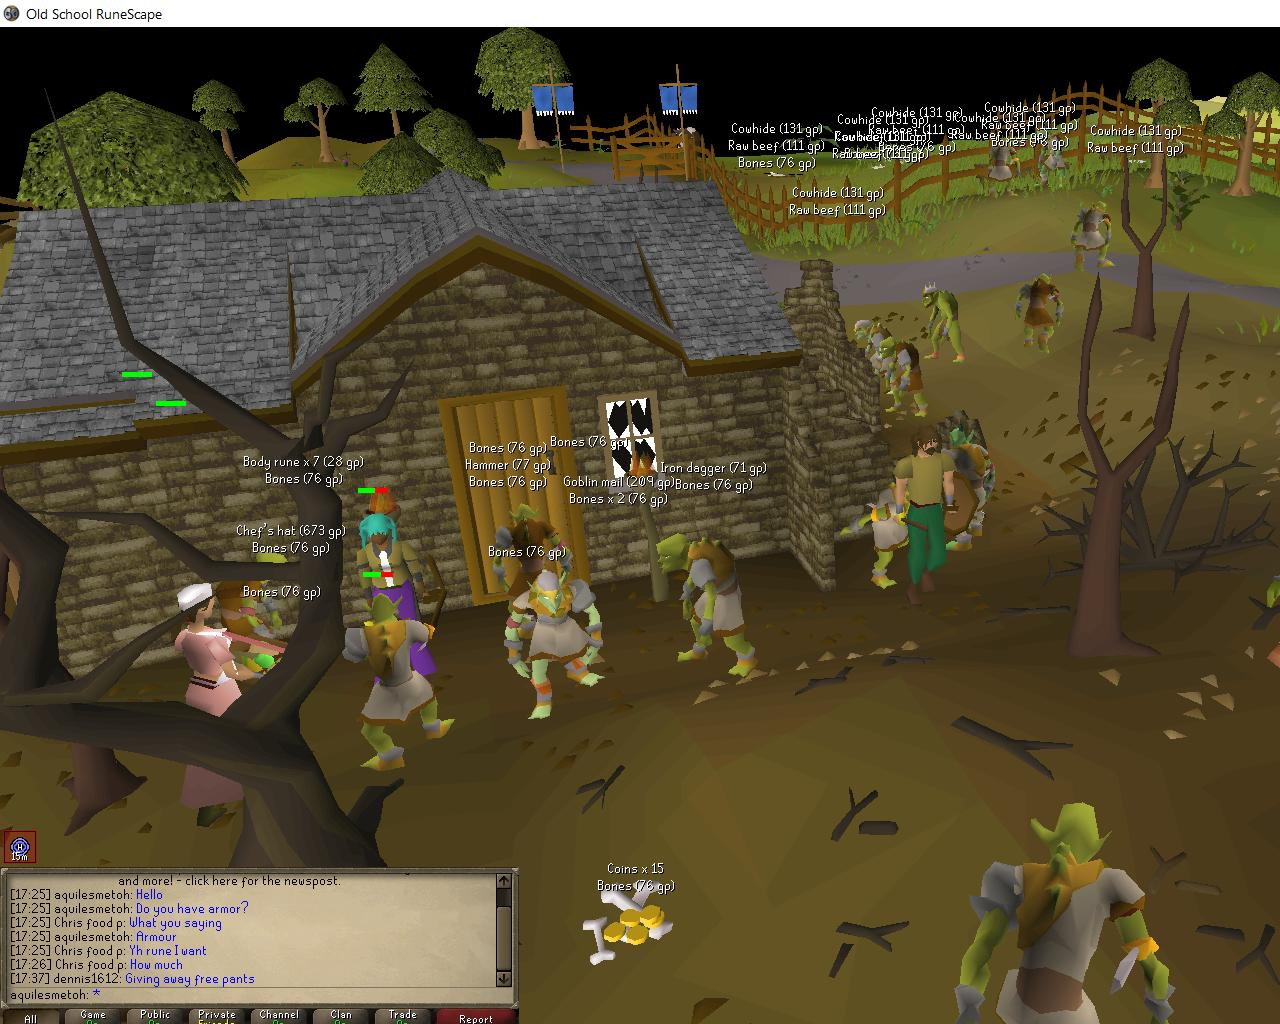Goblin: (924, 777, 1204, 1024), (335, 591, 465, 774), (495, 571, 627, 727), (651, 529, 777, 685), (202, 543, 302, 670), (837, 486, 935, 591), (489, 503, 571, 619), (1013, 272, 1069, 356), (880, 338, 932, 418), (1068, 201, 1122, 274), (923, 284, 971, 364), (855, 316, 902, 396)
